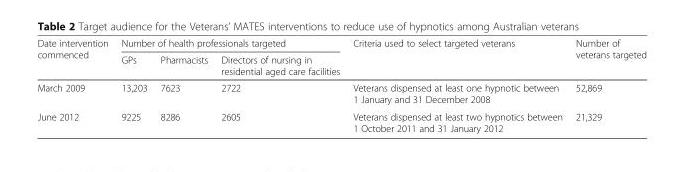table: (36, 37, 646, 133)
table column: (345, 37, 568, 133), (213, 37, 345, 133), (36, 37, 114, 133), (568, 37, 646, 133), (153, 37, 213, 133), (114, 37, 153, 133)
table column header: (36, 37, 646, 79)
table row: (36, 51, 646, 79), (36, 79, 646, 107), (36, 107, 646, 133), (36, 37, 646, 51)
table spanning cell: (345, 37, 568, 79), (36, 37, 114, 79), (568, 37, 646, 79), (114, 37, 345, 51)
